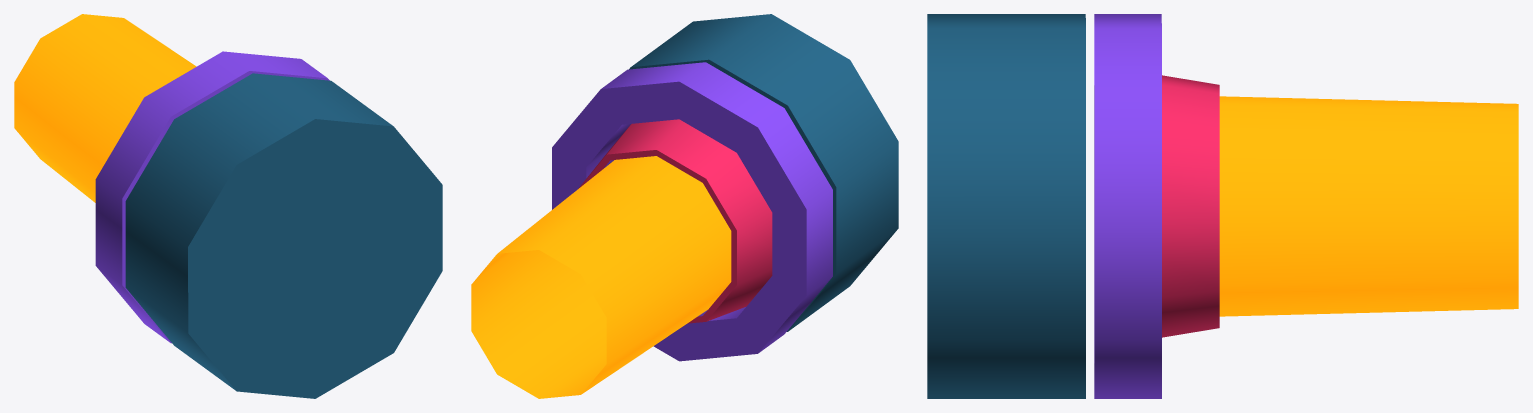
Rendered from boost.glb.
3 renders of one model, left to right at view 1: azimuth 30°, elevation 25°; view 2: azimuth 150°, elevation 25°; view 3: azimuth 270°, elevation 25°, orthographic. The views are drawn at different scales.
Visible parts, largest first — view 1: boost.002, boost-part.008; view 2: boost.002, boost-part.008; view 3: boost.002, boost-part.008.
Part boxes in pixels (x1,y1,x2,y2): boost.002: (95, 51, 442, 398); boost-part.008: (14, 14, 196, 202); boost.002: (552, 14, 898, 361); boost-part.008: (471, 156, 731, 398); boost.002: (927, 14, 1219, 398); boost-part.008: (1219, 96, 1518, 316).
Bounding box in the file's own units: 0.1201 × 0.1262 × 0.1904.
